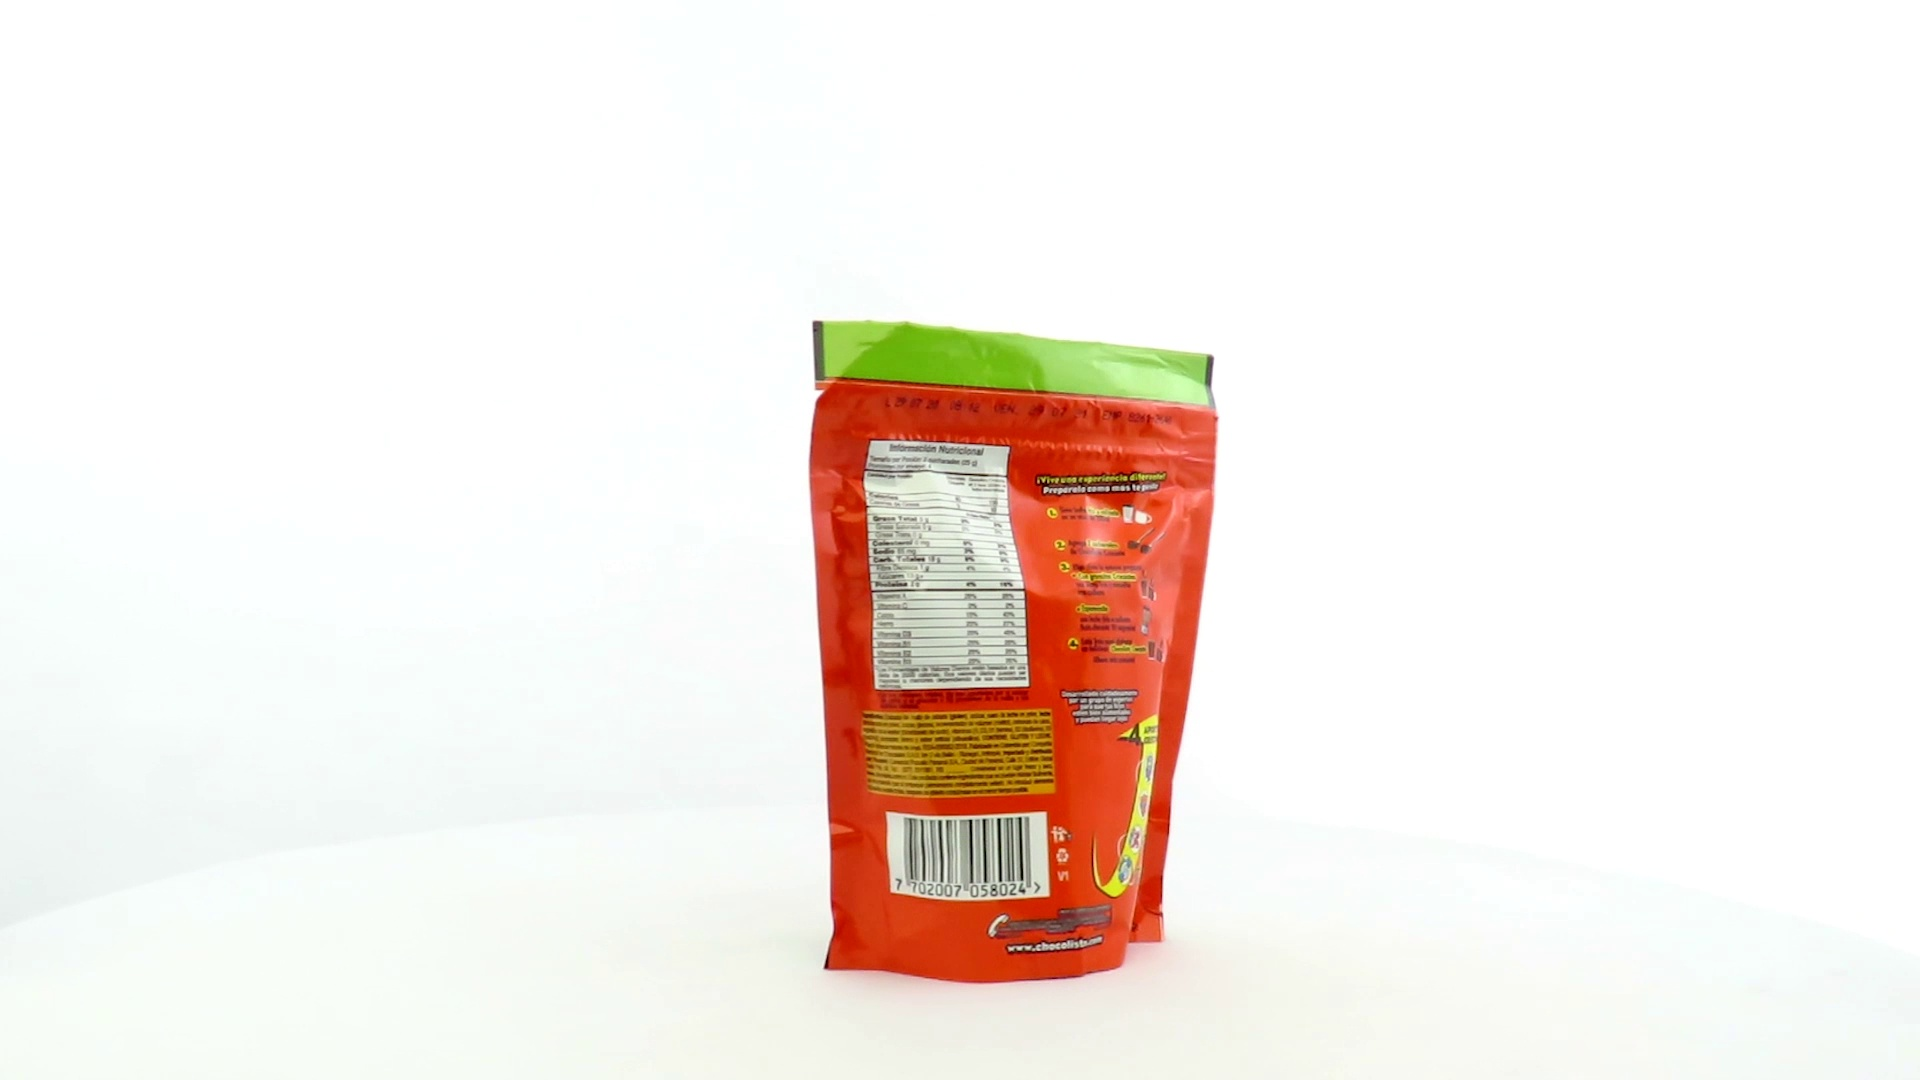COL0170102DYP10000: (804, 315, 1225, 990)
